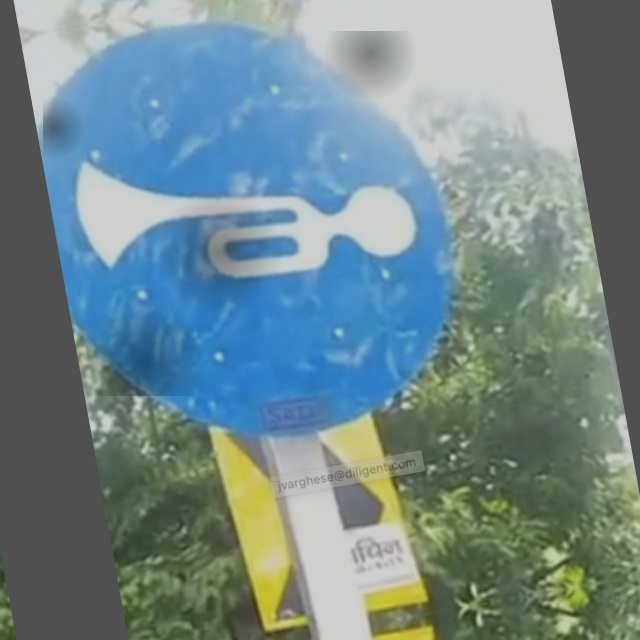Compulsory_Sound_Horn: (43, 31, 443, 396)
